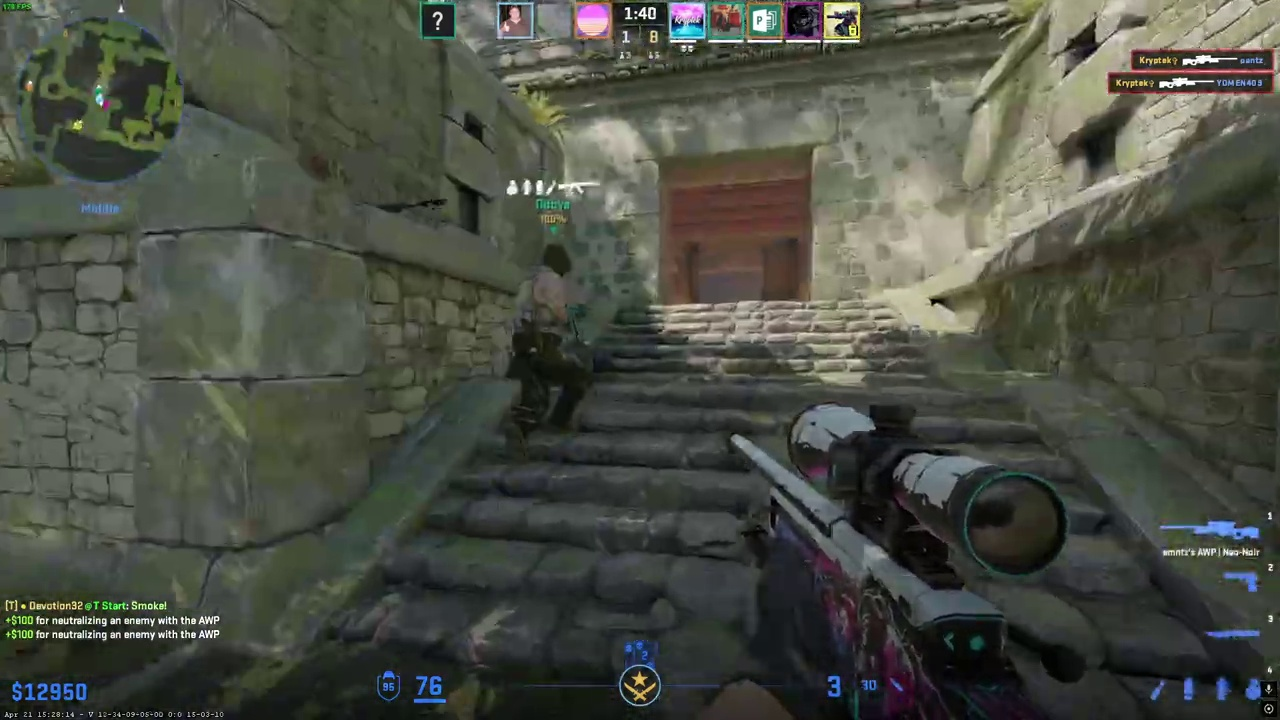Terrorist: (506, 243, 595, 460)
